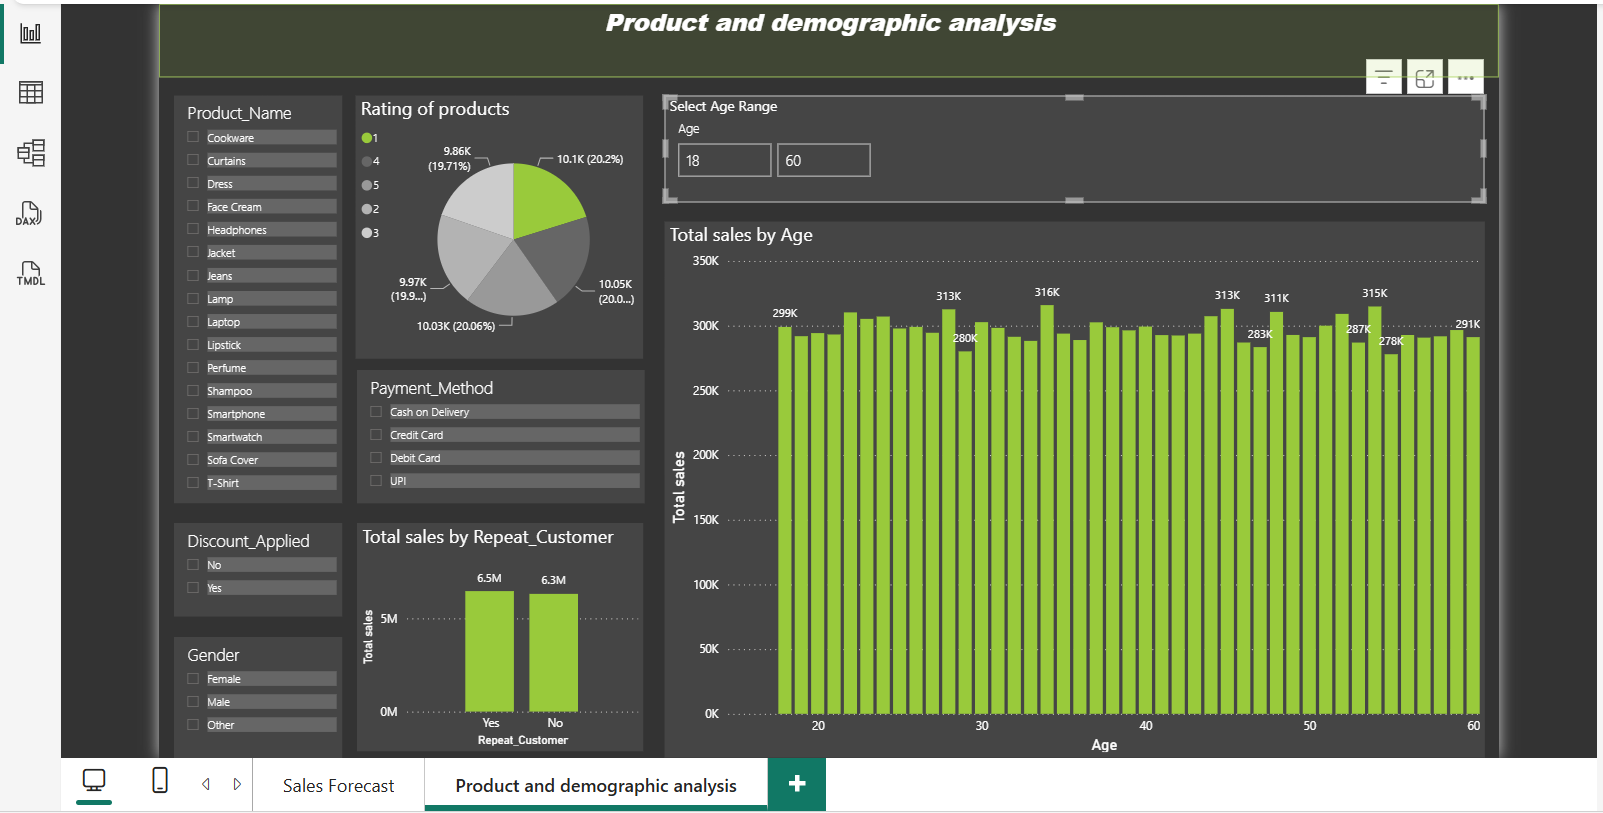

The page's visual inventory and layout, read from the dashboard file:
{"tool":"powerbi","page":{"name":"Product and demographic analysis","canvas":[1280,720],"ordinal":1},"visuals":[{"type":"clusteredColumnChart","fields":{"Category":["walmart purchase data.Age"],"Y":["walmart purchase data.Total sales"]},"box":[483.2,208.2,783.6,511.8],"z":0},{"type":"slicer","title":"Select Age Range","fields":{"Values":["walmart purchase data.Age"]},"box":[483.2,87.4,783.6,101.7],"z":1000},{"type":"pieChart","title":"Rating of products","fields":{"Category":["walmart purchase data.Rating"],"Y":["CountNonNull(walmart purchase data.Customer_ID)"]},"box":[187.5,87.4,275,251.1],"z":2000},{"type":"slicer","fields":{"Values":["walmart purchase data.Product_Name"]},"box":[14.3,87.4,160.5,389.4],"z":3000},{"type":"slicer","fields":{"Values":["walmart purchase data.Gender"]},"box":[14.3,604,160.5,116],"z":4000},{"type":"slicer","fields":{"Values":["walmart purchase data.Discount_Applied"]},"box":[14.3,495.9,160.5,89],"z":5000},{"type":"slicer","fields":{"Values":["walmart purchase data.Payment_Method"]},"box":[189.1,349.7,275,127.2],"z":6000},{"type":"textbox","title":"Product and demographic analysis","box":[0,0,1279.5,69.9],"z":8000},{"type":"columnChart","fields":{"Y":["walmart purchase data.Total sales"],"Category":["walmart purchase data.Repeat_Customer"]},"box":[189.1,495.9,273.4,217.7],"z":8001}]}

Visuals, with their boxes on the page's 1280x720 design canvas (x1, y1, x2, y2). These are canvas units, not pixel positions in the 1603x813 screenshot, which may show the page scaled, cropped or inside an application window:
clusteredColumnChart - walmart purchase data.Age x walmart purchase data.Total sales: 483,208,1267,720
"Select Age Range" slicer: 483,87,1267,189
"Rating of products" pieChart: 188,87,462,338
slicer - walmart purchase data.Product_Name: 14,87,175,477
slicer - walmart purchase data.Gender: 14,604,175,720
slicer - walmart purchase data.Discount_Applied: 14,496,175,585
slicer - walmart purchase data.Payment_Method: 189,350,464,477
"Product and demographic analysis" textbox: 0,0,1280,70
columnChart - walmart purchase data.Total sales x walmart purchase data.Repeat_Customer: 189,496,462,714
